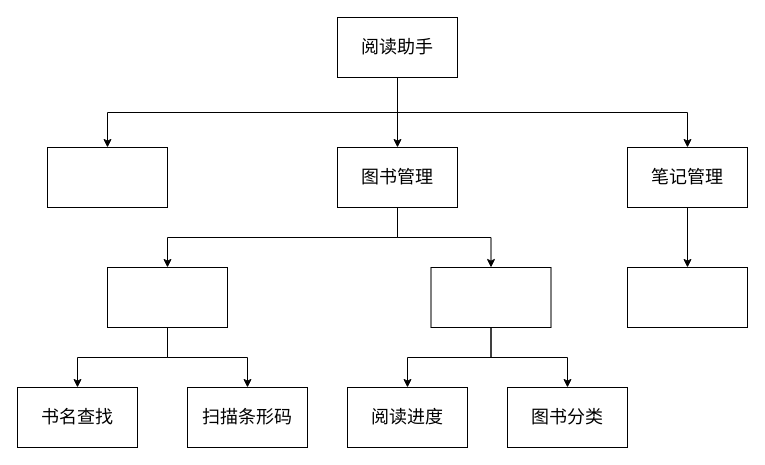
The diagram is 765 pixels wide and 465 high, and some of its shapes have lost their labels. Each missing label, with the centre of its shape:
"图书查找" goes at (x=167, y=297).
"收藏管理" goes at (x=490, y=297).
"笔记共享" goes at (x=687, y=297).
"账号管理" goes at (x=107, y=177).
